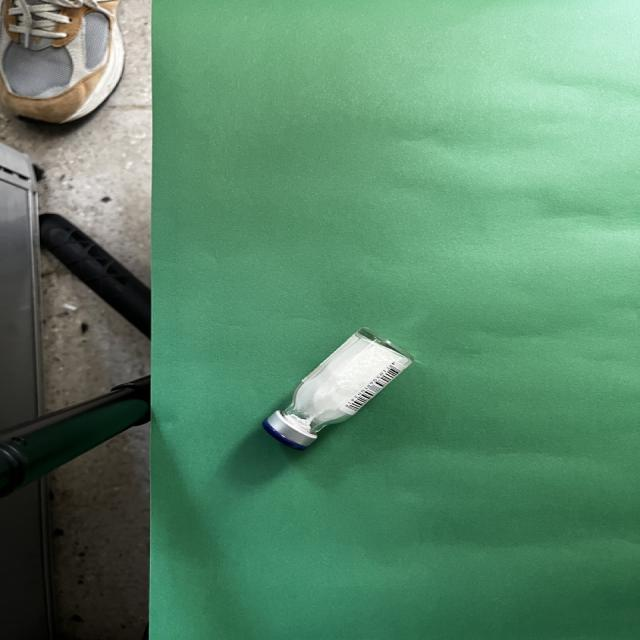Vials: (263, 328, 412, 449)
